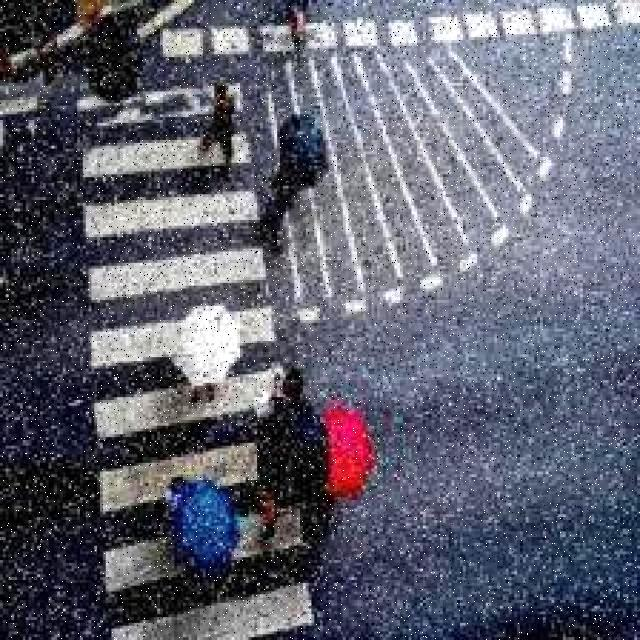crosswalk: (54, 74, 327, 640)
